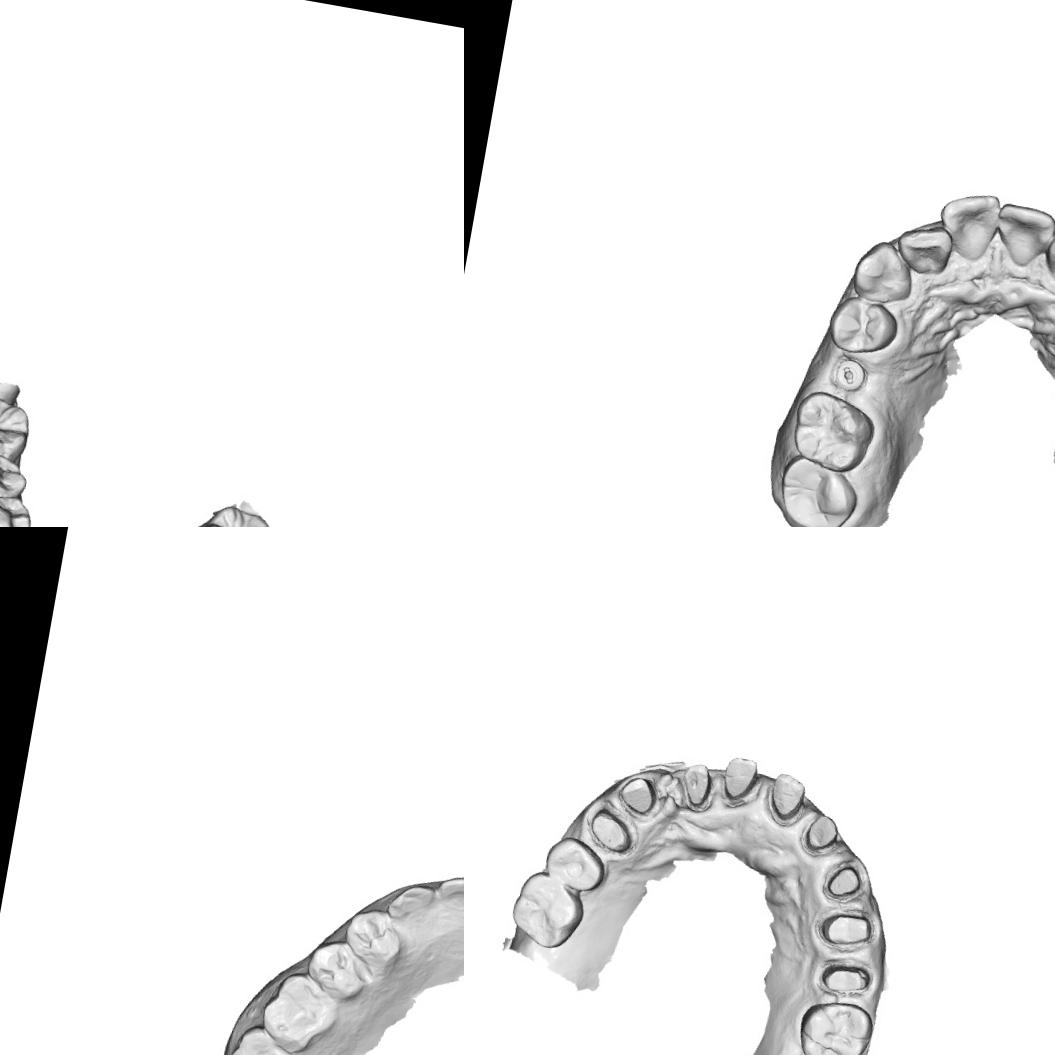canine: (846, 236, 920, 310), (382, 876, 440, 921)
crown: (759, 768, 814, 827), (812, 904, 878, 952), (582, 803, 639, 858), (674, 758, 720, 817), (716, 752, 764, 808), (814, 956, 874, 1000), (611, 770, 662, 818), (797, 809, 844, 860), (819, 858, 867, 906)
implant_minus: (829, 353, 869, 394)
incisor: (932, 184, 1004, 266), (989, 198, 1055, 271), (892, 218, 956, 279), (433, 868, 464, 914), (1041, 227, 1055, 288)
molar: (786, 384, 880, 476), (255, 964, 341, 1055), (505, 867, 591, 955), (770, 451, 865, 527), (792, 993, 878, 1055), (224, 1019, 299, 1055), (190, 498, 279, 527), (0, 388, 32, 468)
premolar: (822, 290, 902, 361), (337, 902, 408, 972), (300, 935, 370, 1005), (538, 832, 610, 897), (0, 449, 26, 508), (0, 486, 34, 527)
